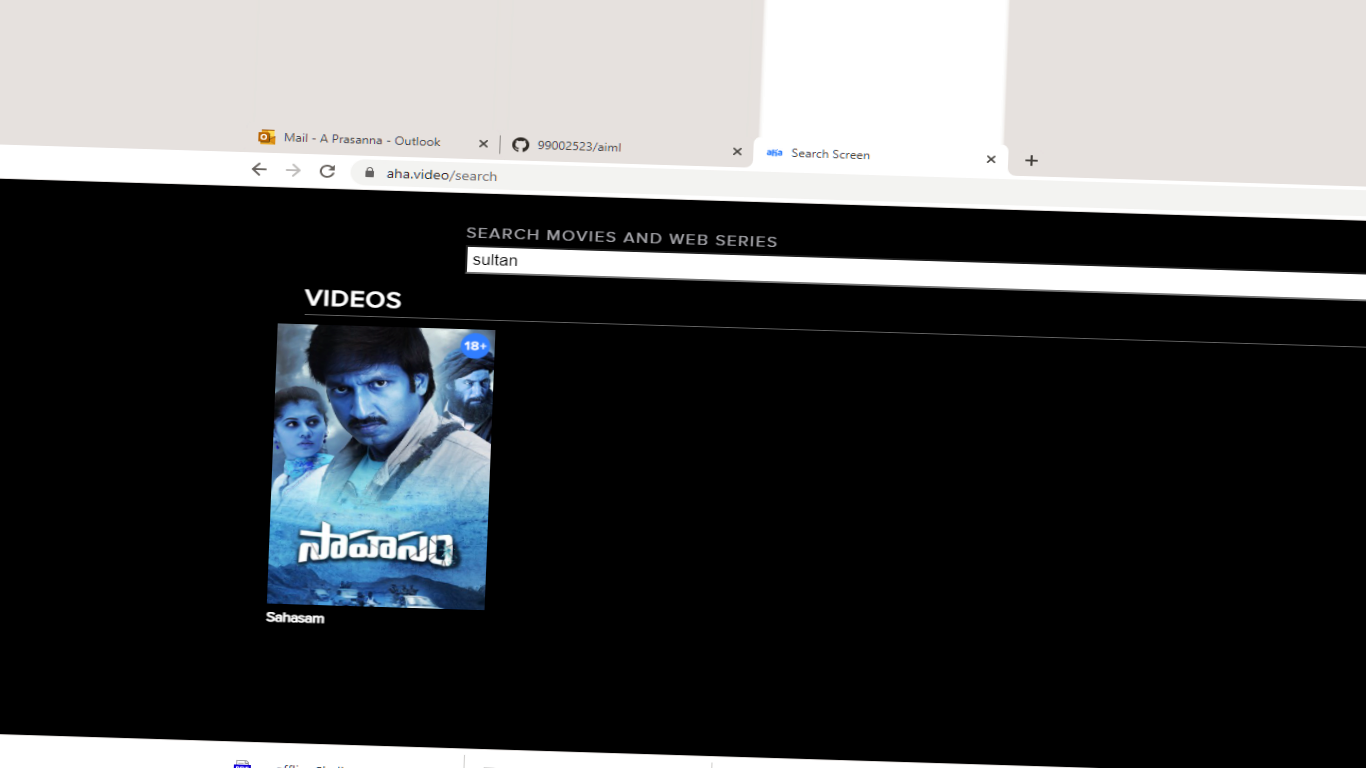noresultsfound: (283, 272, 675, 315)
searchtextbox: (461, 241, 1163, 298)
